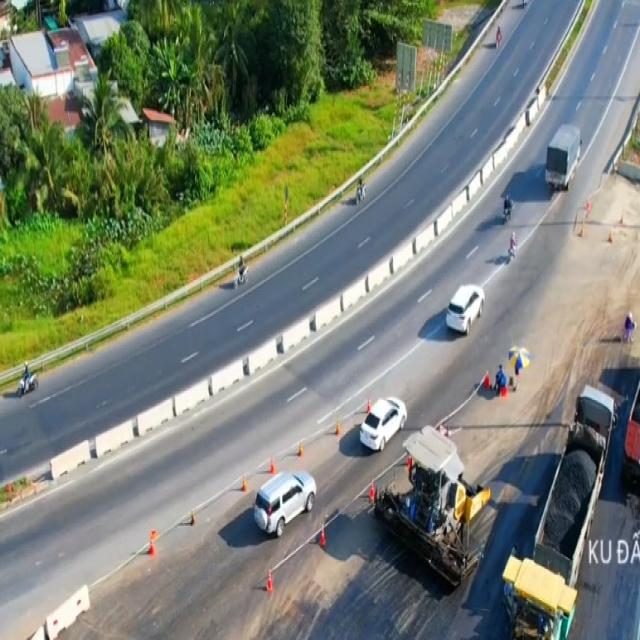car: (252, 463, 318, 541), (356, 396, 410, 452), (442, 279, 485, 339)
motorbike: (16, 363, 36, 397), (504, 231, 518, 263), (500, 192, 513, 224), (235, 255, 248, 285)
truck: (544, 124, 584, 194)
